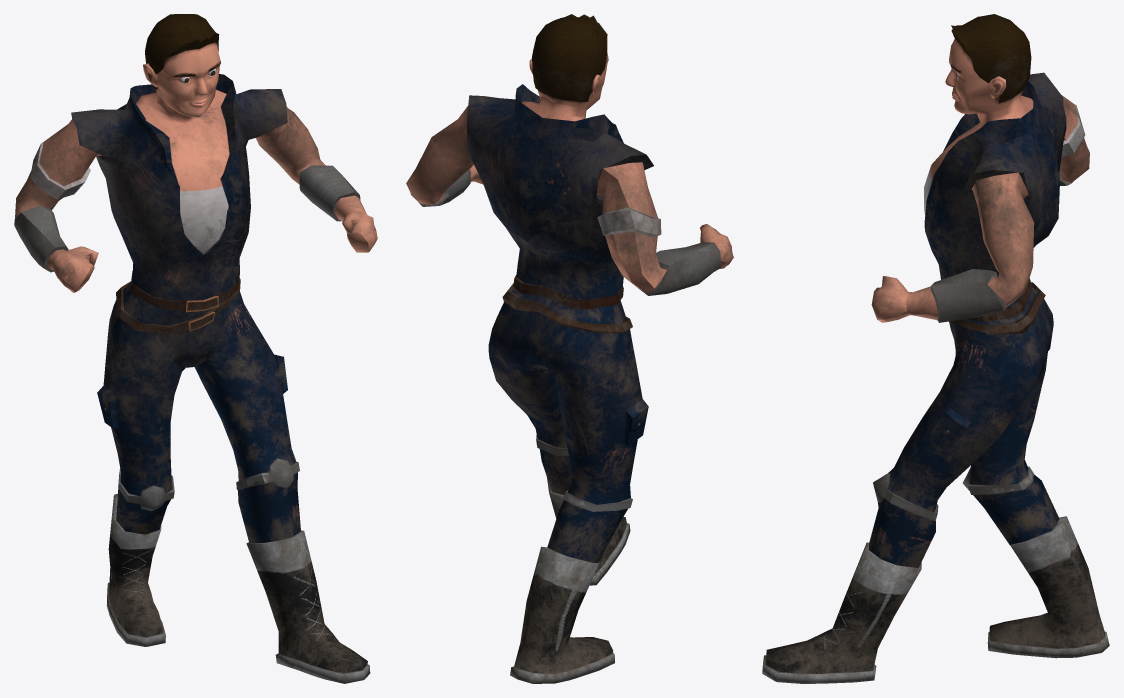
Rendered from Anim_ataque_d1_jugador.0028.obj.
3 views of the same model, side by side, from view 1: azimuth 30°, elevation 25°; view 2: azimuth 150°, elevation 25°; view 3: azimuth 270°, elevation 25° (orthographic). The views are drawn at different scales.
Parts seen in each view (by area): view 1: polySurface1; view 2: polySurface1; view 3: polySurface1.
Boxes of the visible parts, left/top/right/bottom form: polySurface1: left=14, top=14, right=377, bottom=683; polySurface1: left=406, top=14, right=733, bottom=683; polySurface1: left=762, top=14, right=1109, bottom=683.
Size of the model in its own units: 4.7 by 9.36 by 4.6.
